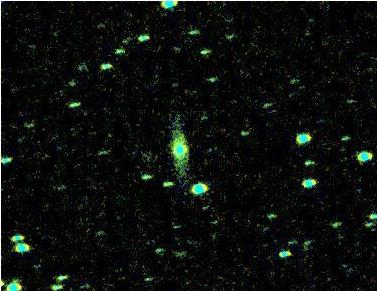star: (0, 267, 15, 291)
